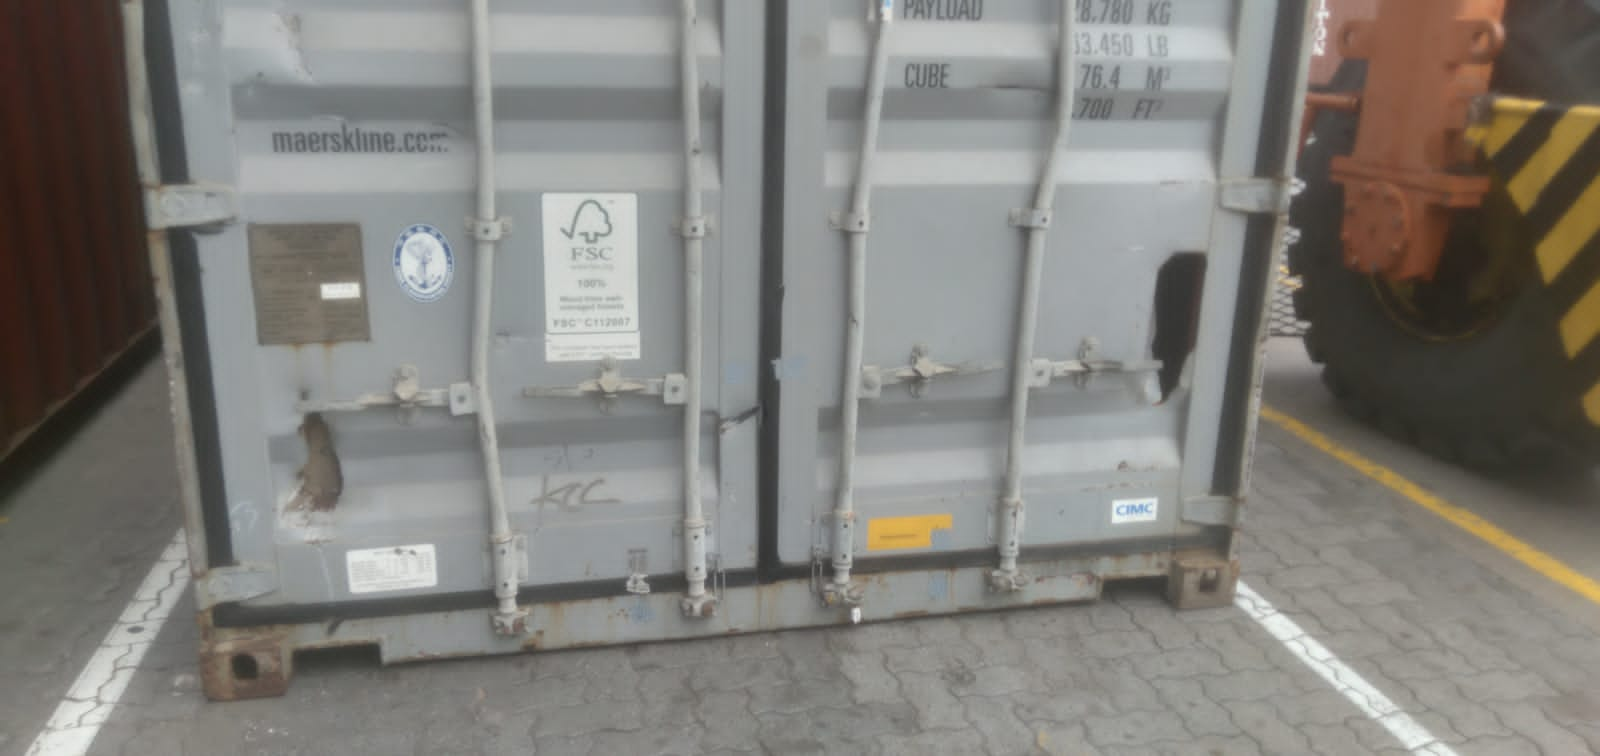cut: (261, 392, 374, 518), (1143, 229, 1221, 404)
